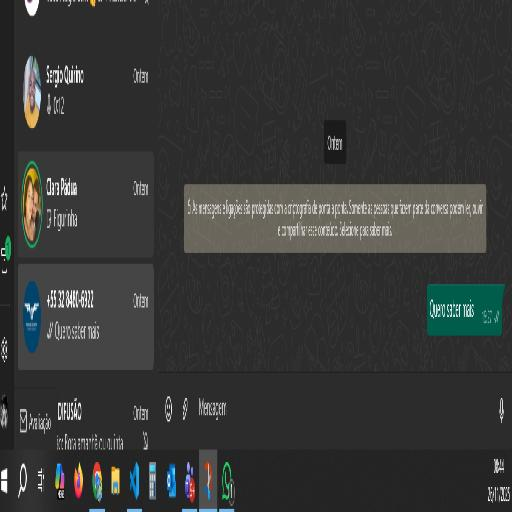mensagem-enviada: (426, 284, 504, 334)
